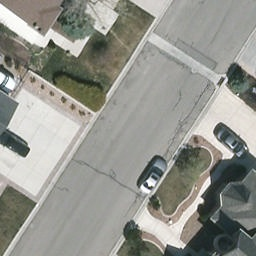car: (136, 154, 168, 198), (214, 121, 250, 158), (0, 131, 29, 156)
pickup: (0, 58, 21, 95)
